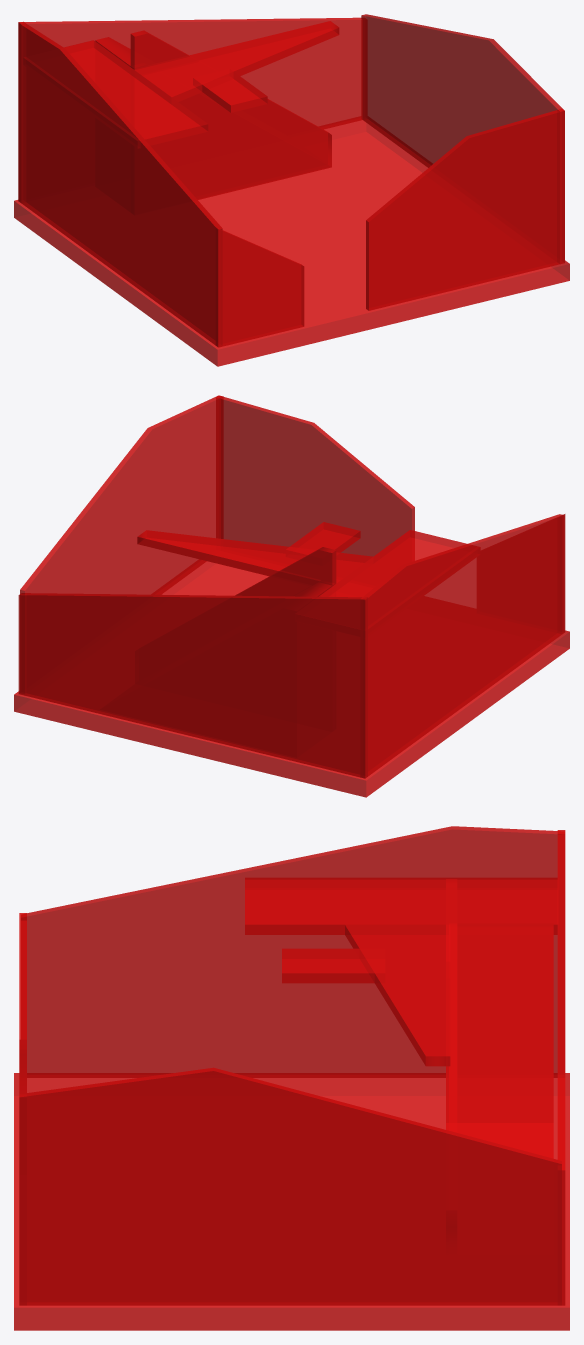
The model's file is SM_Bld_City_Destroyed_02_Collision.fbx.
3 renders of one model, top to bottom at view 1: azimuth 30°, elevation 25°; view 2: azimuth 150°, elevation 25°; view 3: azimuth 270°, elevation 25°, orthographic. The views are drawn at different scales.
Visible parts, largest first — view 1: SM_Bld_City_Destroyed_02_Collision; view 2: SM_Bld_City_Destroyed_02_Collision; view 3: SM_Bld_City_Destroyed_02_Collision.
Part boxes in pixels (box(x1,y1,x2,y2)): SM_Bld_City_Destroyed_02_Collision: box(14, 14, 569, 366); SM_Bld_City_Destroyed_02_Collision: box(14, 395, 569, 797); SM_Bld_City_Destroyed_02_Collision: box(14, 826, 569, 1330).
Size of the model in its own units: 763 by 412 by 764.
